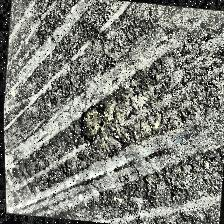pothole: (74, 100, 110, 146)
